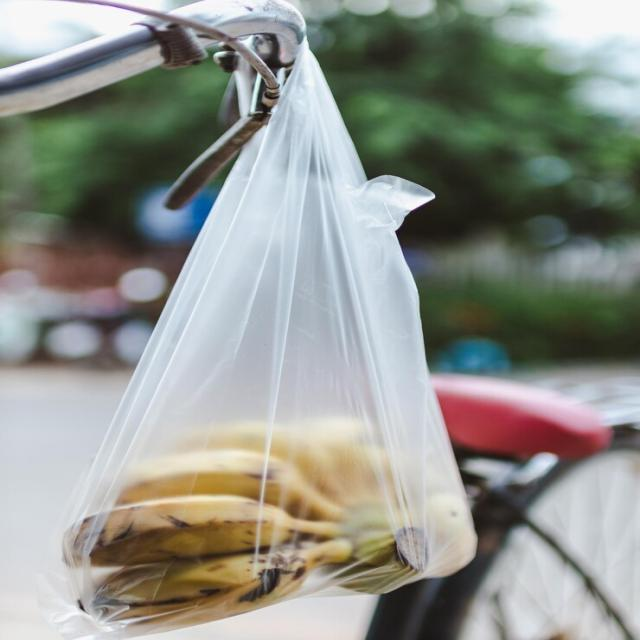banana_peel: (67, 530, 368, 629), (57, 489, 353, 575)
plastic_bag: (40, 34, 512, 637)
